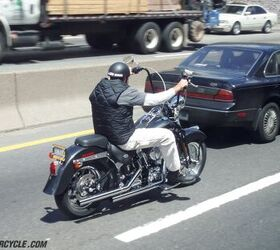Car: (143, 41, 280, 145), (207, 3, 279, 34)
Motorcycle: (34, 96, 231, 218)
